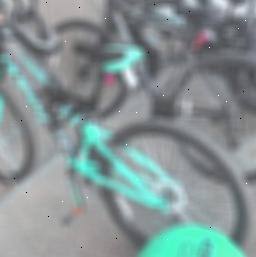algae: (129, 223, 256, 257)
